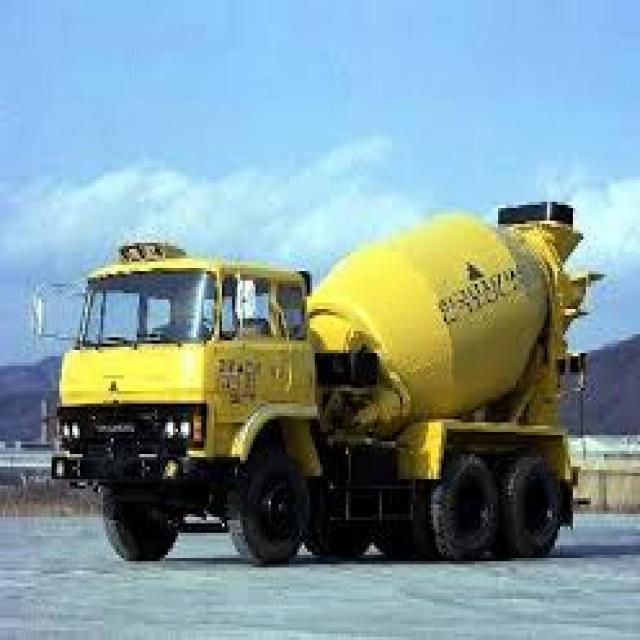Mixer Truck: (47, 196, 615, 562)
